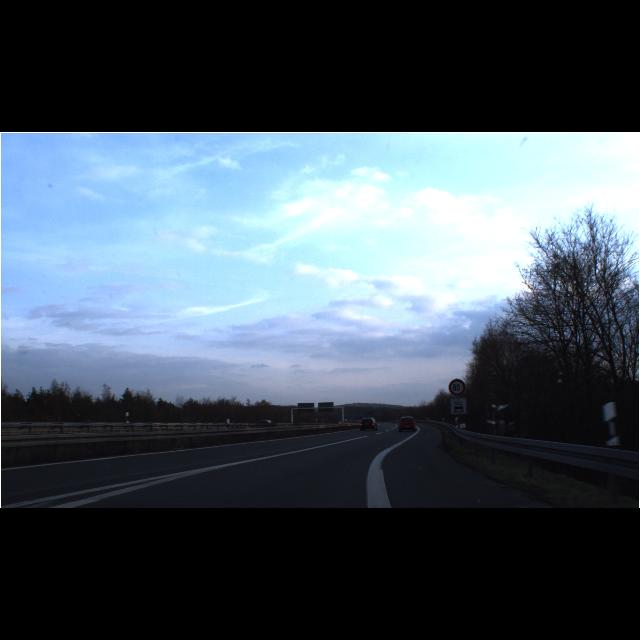prohibitory: (448, 379, 466, 396)
